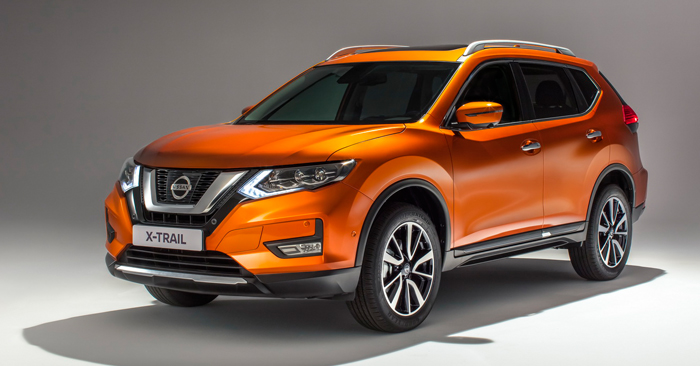pickup: (103, 37, 651, 334)
